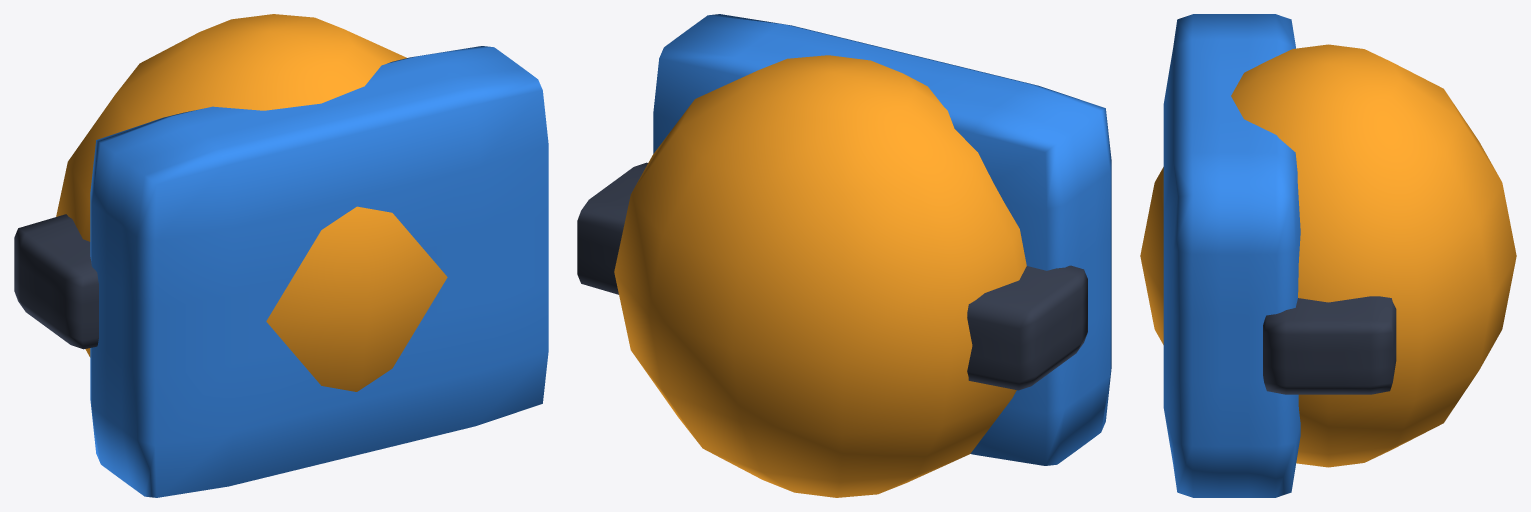
Rendered from core_plasma.obj.
3 views of the same model, side by side, from view 1: azimuth 30°, elevation 25°; view 2: azimuth 150°, elevation 25°; view 3: azimuth 270°, elevation 25° (orthographic). The views are drawn at different scales.
Size of the model in its own units: 0.42 by 0.36 by 0.32.
